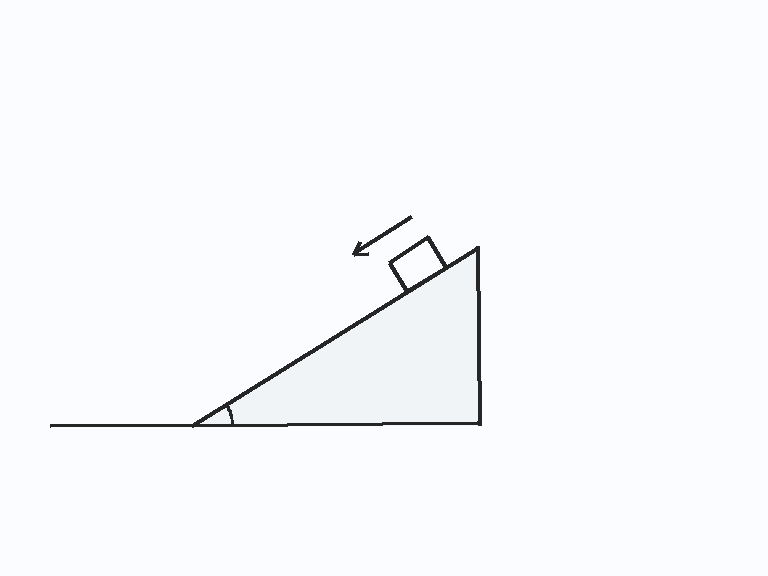block: (386, 236, 448, 293)
ramp: (190, 244, 480, 427)
